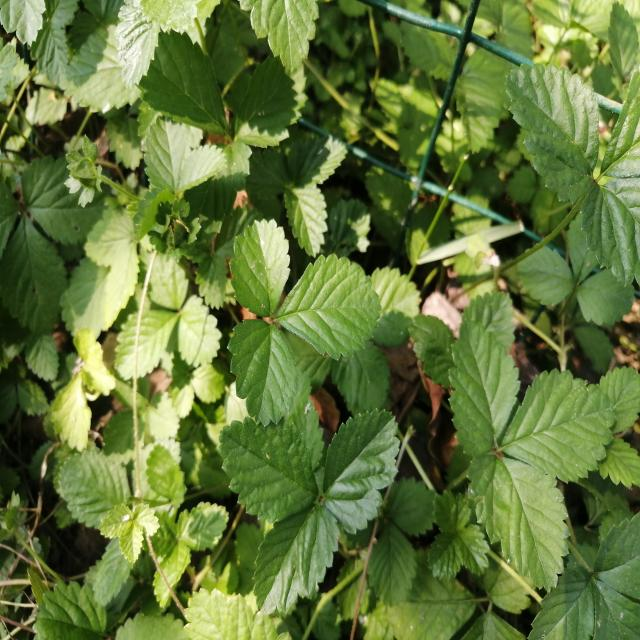Mock_strawberry: (197, 186, 384, 422), (442, 321, 596, 571)
